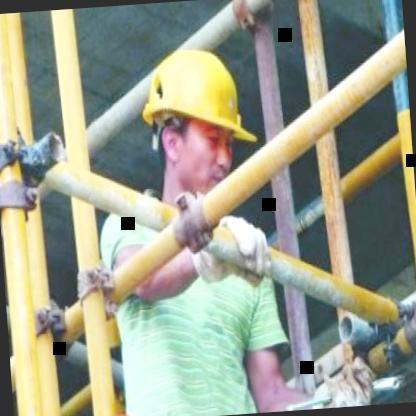helmet: (131, 27, 263, 212)
